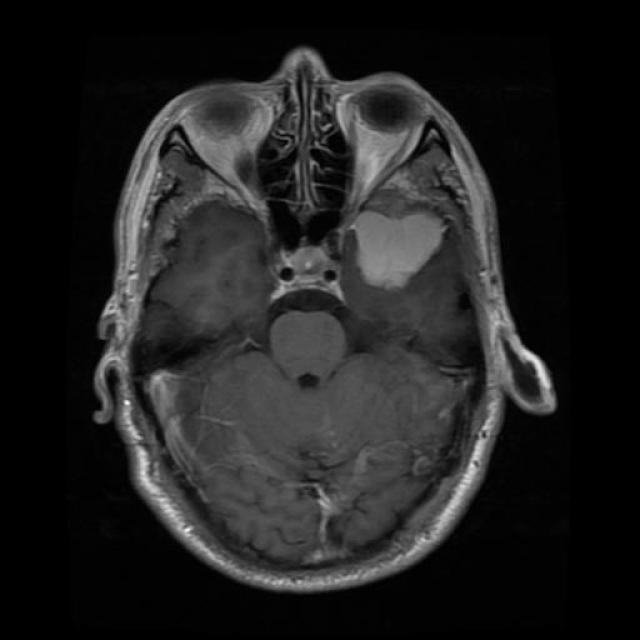Meningioma: (353, 210, 445, 290)
